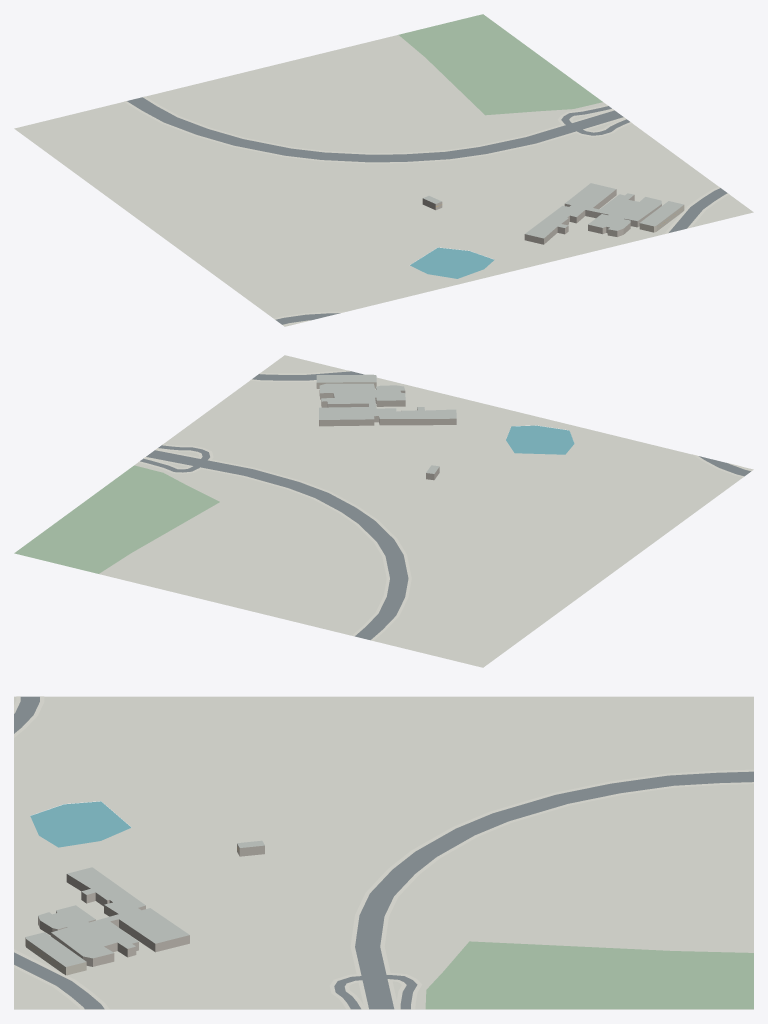
3 views of the same model, one above another, from view 1: azimuth 30°, elevation 25°; view 2: azimuth 150°, elevation 25°; view 3: azimuth 270°, elevation 25° (orthographic). The views are drawn at different scales.
Visible parts, largest first — view 1: city; view 2: city; view 3: city.
Part boxes in pixels (<box>): city: <box>14,14,753,326</box>; city: <box>14,355,753,667</box>; city: <box>14,696,753,1009</box>.
Bounding box in the file's own units: 500 × 6.58 × 500.
